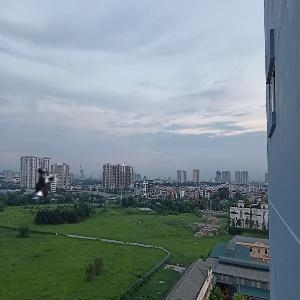drone: (3, 155, 67, 219)
